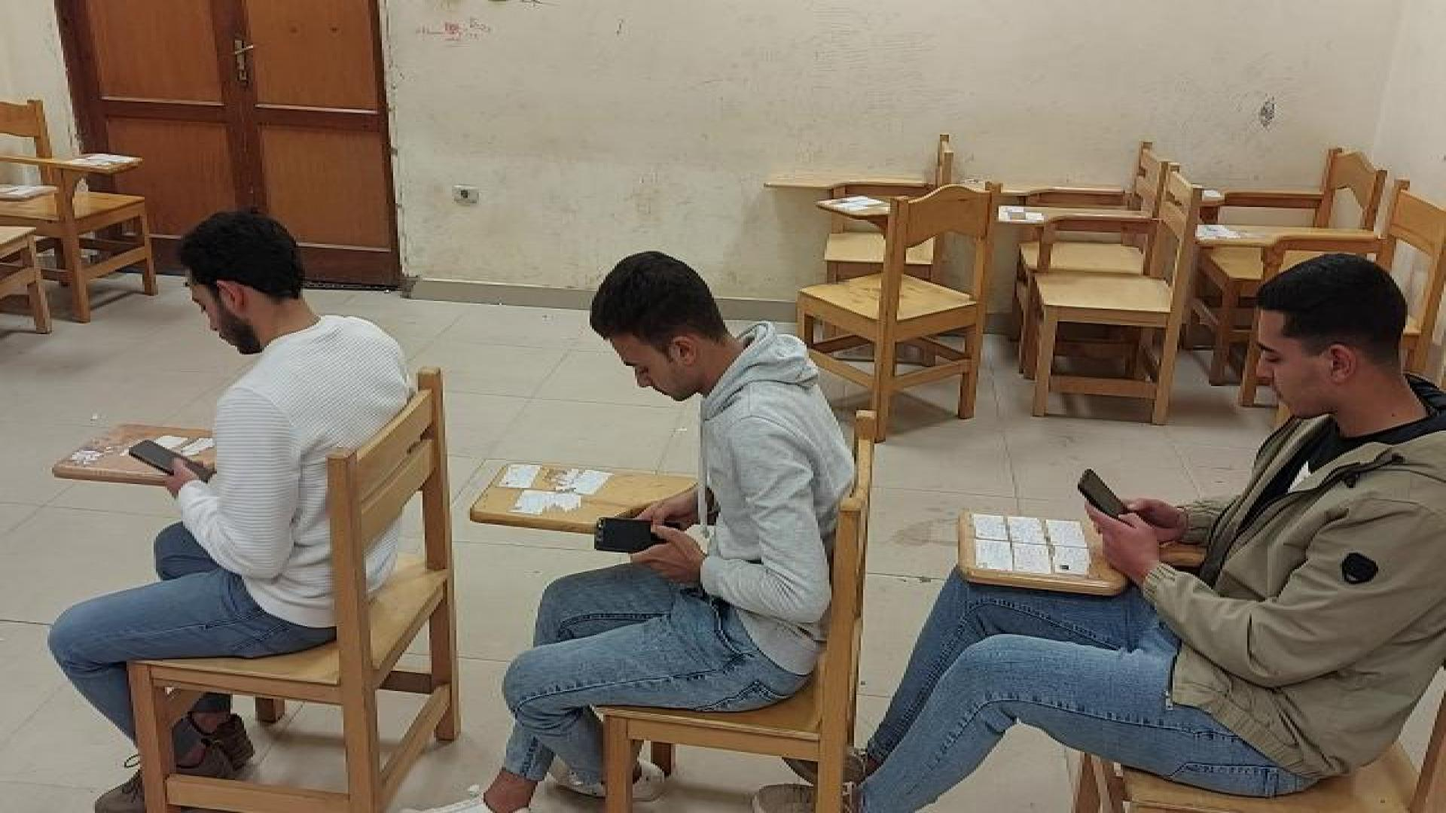phone: (125, 433, 223, 499), (1074, 463, 1138, 539), (589, 513, 688, 559)
